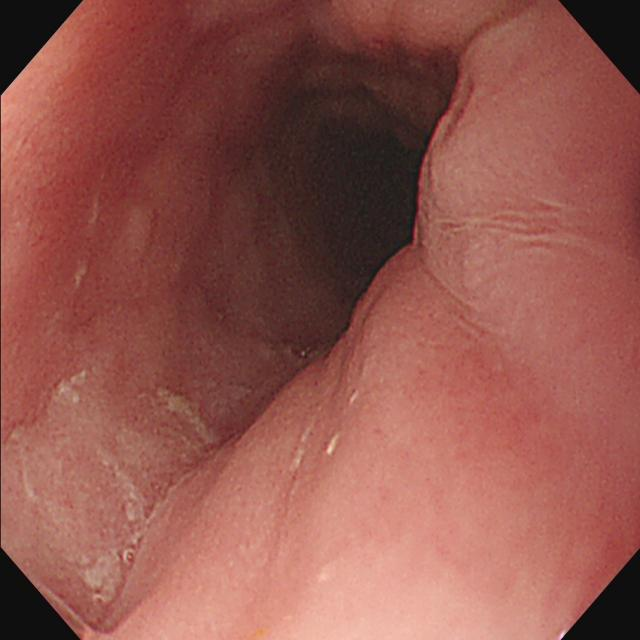E: (272, 104, 433, 289)
J: (12, 369, 225, 605)
